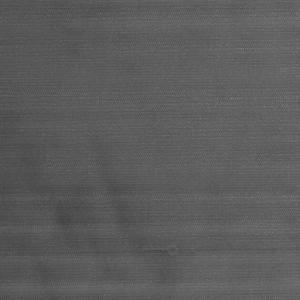Wrinkle: (1, 115, 194, 300)
